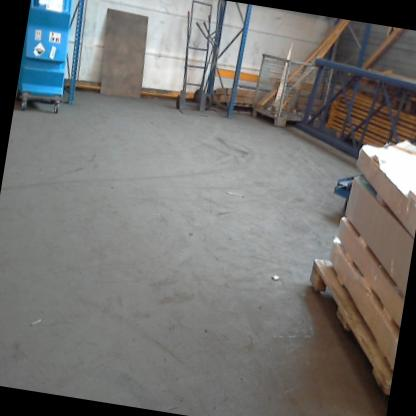pallet: (289, 246, 406, 406)
stillage: (238, 45, 342, 139)
